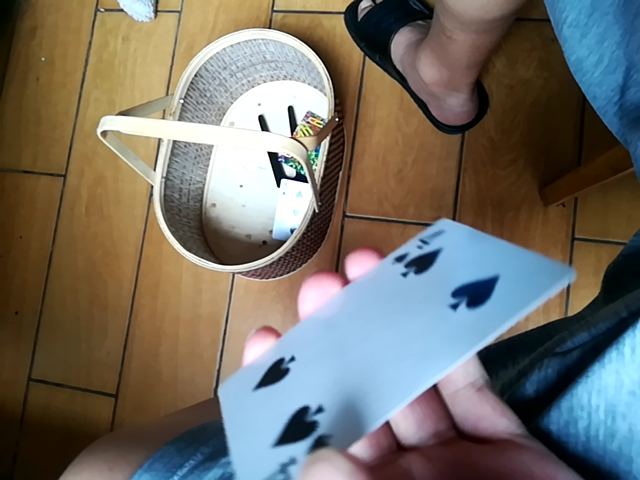ht 4: (222, 221, 580, 475)
